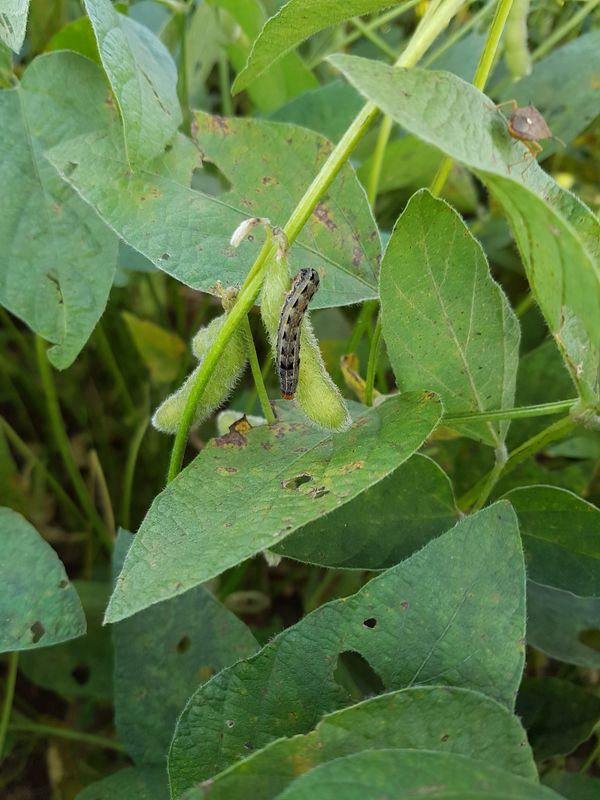Euschistus_heros_adulto: (475, 90, 574, 191)
Spodoptera_albula: (252, 259, 355, 408)
